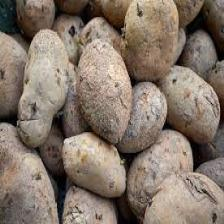Diseased-fungal potato: (15, 32, 70, 152), (74, 36, 131, 149), (1, 119, 62, 224), (157, 56, 222, 147), (57, 132, 130, 206), (133, 172, 224, 223), (122, 1, 178, 80)
